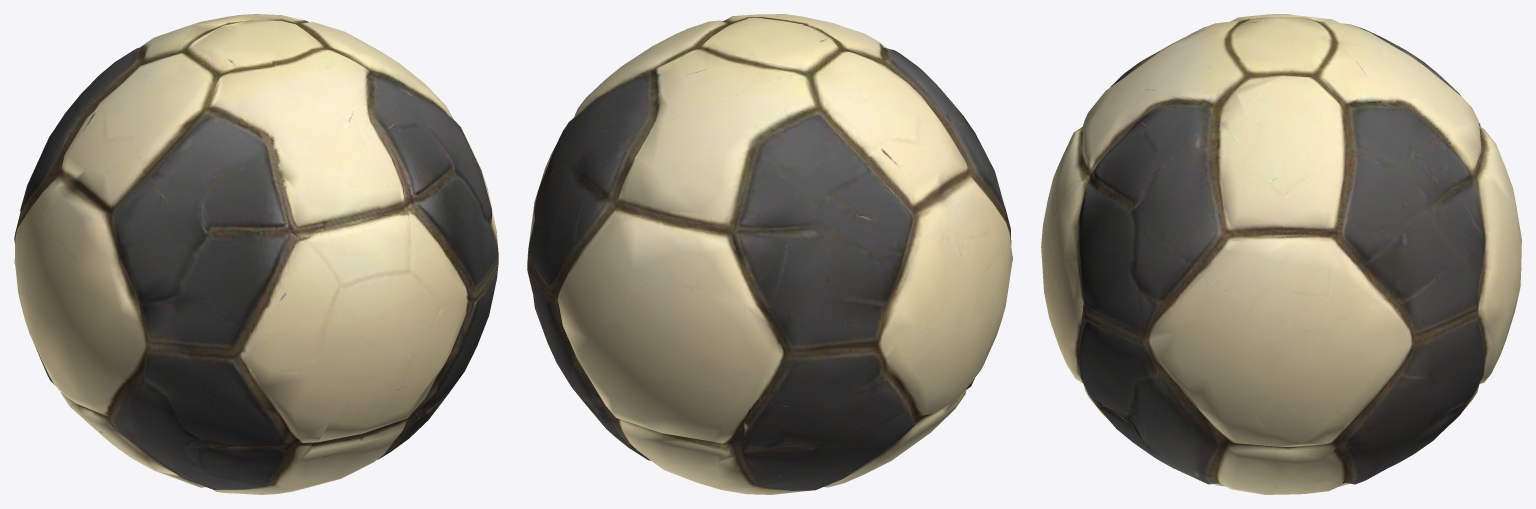
The model's file is bola.glb.
The picture shows the model from 3 angles, left to right: view 1: azimuth 30°, elevation 25°; view 2: azimuth 150°, elevation 25°; view 3: azimuth 270°, elevation 25°; orthographic projection.
Bounding box in the file's own units: 0.2199 × 0.22 × 0.22.
1 material, 1 textured.
